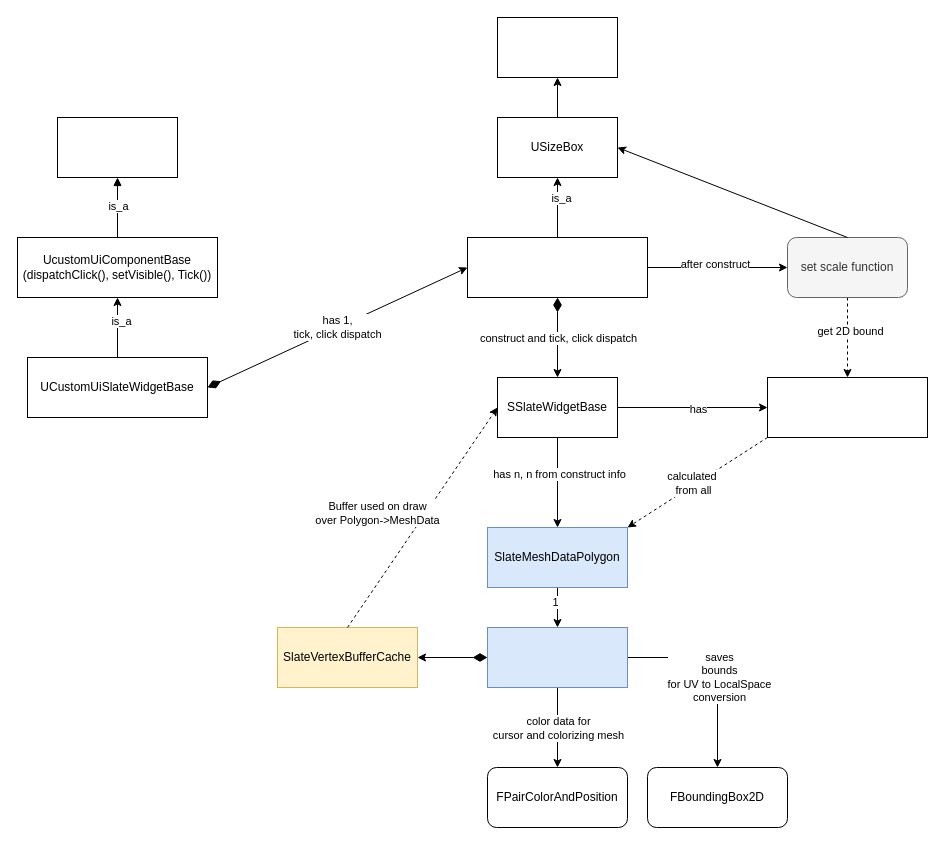
This 945x845 diagram has some shape labels left out. The centre of each missing label's shape, as x and y in pixels:
"SlateMeshData" goes at (x=557, y=657).
"SlateWidgetBoundsCache" goes at (x=847, y=407).
"UObject" goes at (x=117, y=147).
"UWidget" goes at (x=557, y=47).
"UWidgetSlateWrapperBase" goes at (x=557, y=267).
